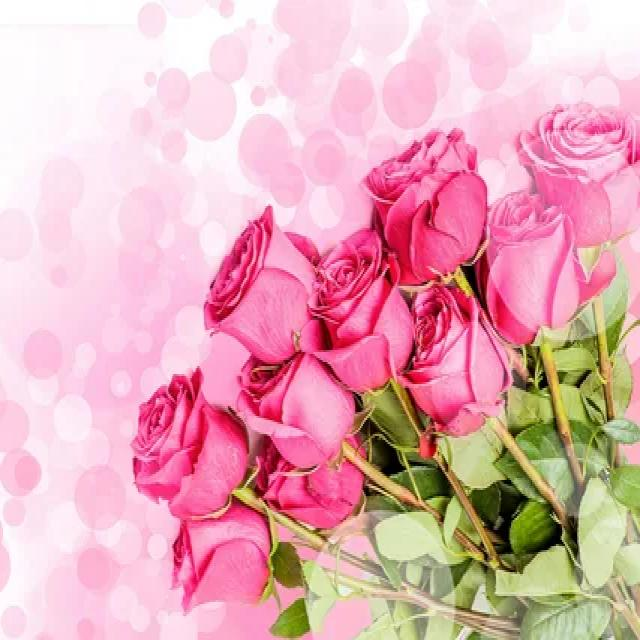rose: (192, 196, 325, 363), (482, 184, 596, 365)
